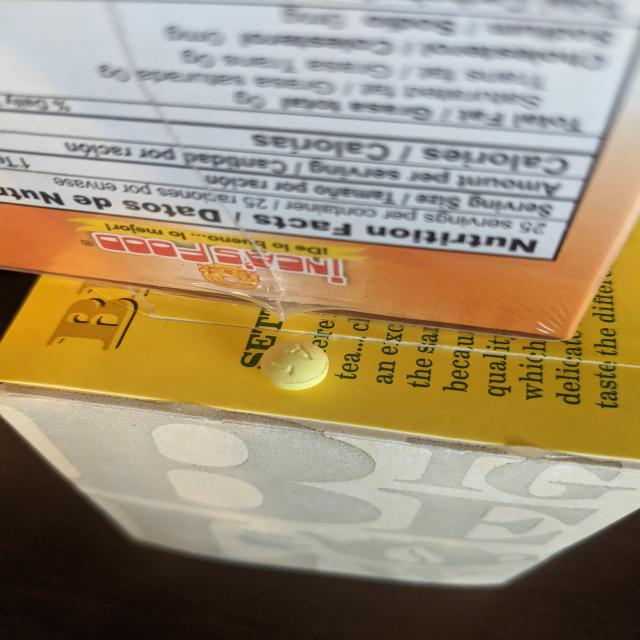non-organic waste: (259, 339, 331, 391)
